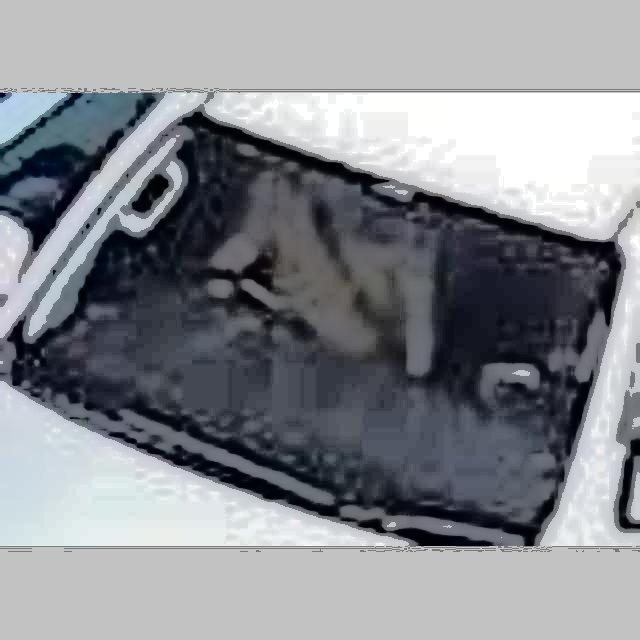pakai: (187, 167, 447, 376)
